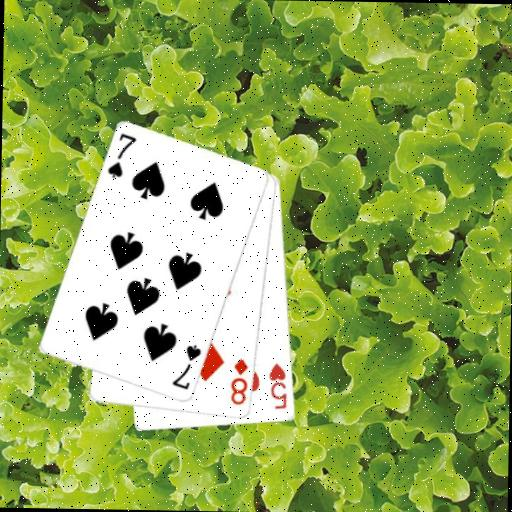5H: (266, 361, 290, 412)
7S: (169, 342, 203, 393), (105, 130, 139, 181)
8D: (227, 355, 250, 406)
